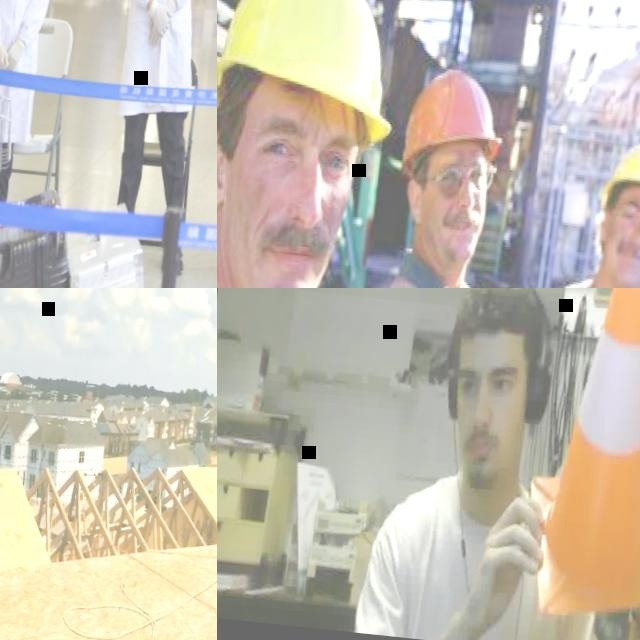Hardhat: (217, 0, 414, 129), (397, 62, 510, 185), (600, 129, 640, 220)
NO-Hardhat: (451, 288, 552, 347)
NO-Mask: (217, 206, 341, 288), (448, 419, 519, 493), (420, 203, 489, 264), (598, 235, 640, 288)
NO-Safety Vest: (396, 482, 569, 640), (122, 0, 203, 72), (0, 0, 53, 62)
Person: (340, 288, 640, 640), (217, 0, 412, 288), (339, 60, 575, 288), (90, 0, 217, 268), (492, 123, 640, 288), (0, 0, 68, 274)
Safety Cone: (517, 288, 640, 625)
